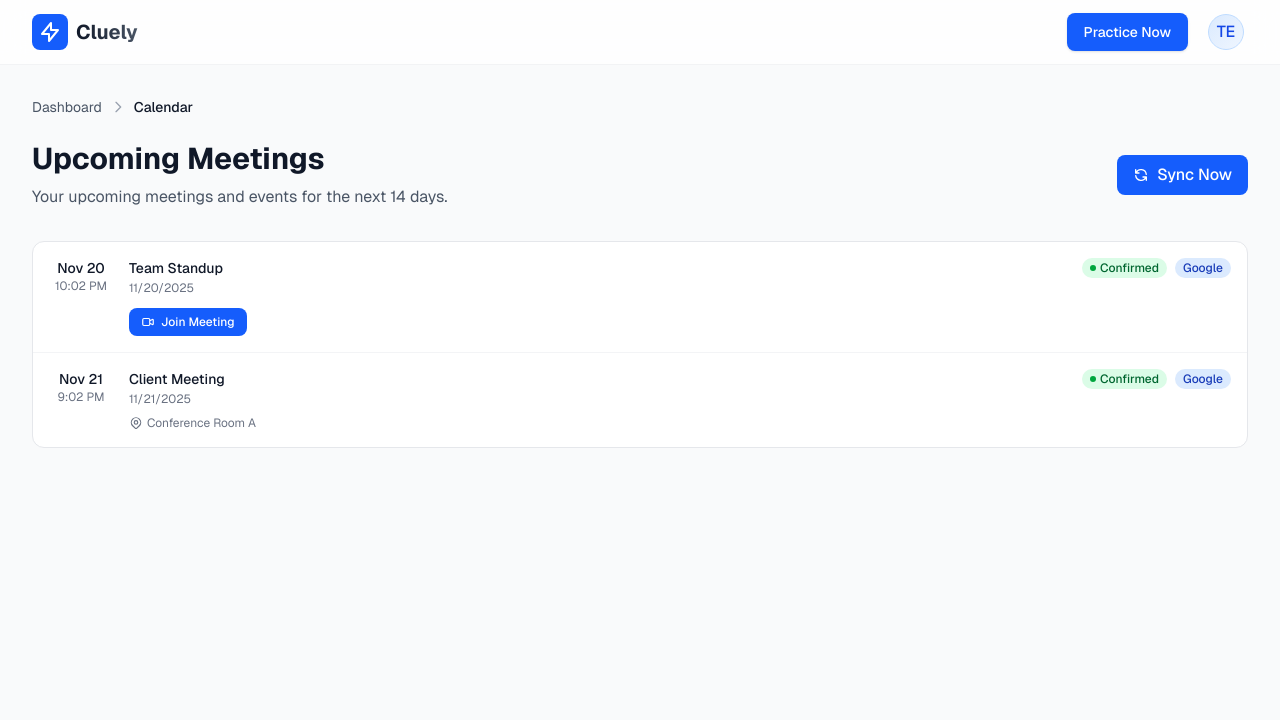
Test: CalendarPage › Sync Functionality › should show error message when sync fails
Click the button "Sync Now" at [1183, 175], box [1117, 155, 1248, 195]
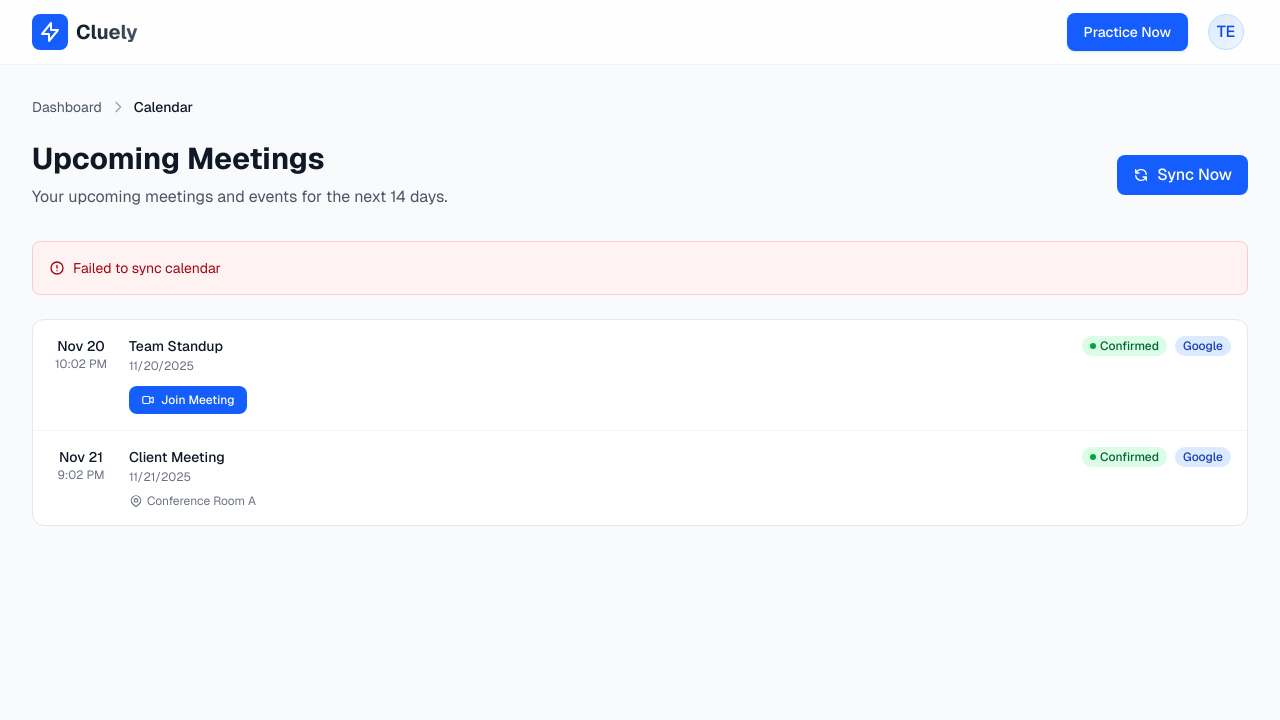
Expected: the text "Failed to sync calendar" is shown, [49, 259, 221, 277]
